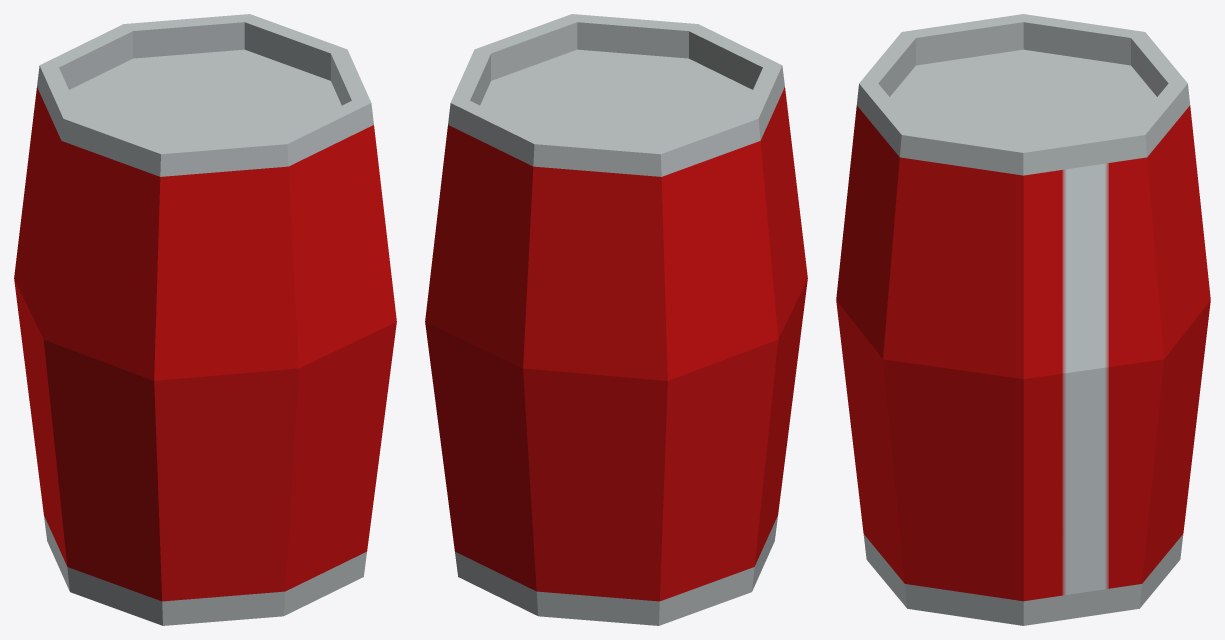
Rendered from Can_Mesh_001.fbx.
The picture shows the model from 3 angles, left to right: view 1: azimuth 30°, elevation 25°; view 2: azimuth 150°, elevation 25°; view 3: azimuth 270°, elevation 25°; orthographic projection.
Visible parts, largest first — view 1: Can_Mesh_001; view 2: Can_Mesh_001; view 3: Can_Mesh_001.
Boxes of the visible parts, bbox=[...] form: Can_Mesh_001: bbox=[14, 14, 396, 625]; Can_Mesh_001: bbox=[425, 14, 807, 625]; Can_Mesh_001: bbox=[836, 14, 1210, 625].
Bounding box in the file's own units: 6.18 × 8.67 × 6.18.
